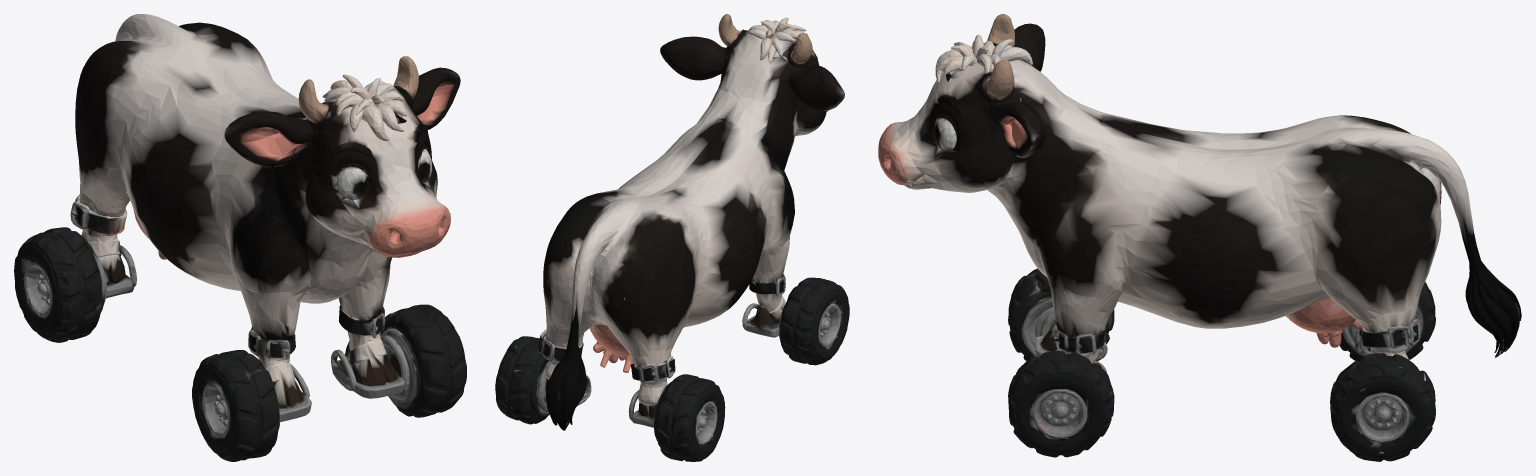
File: cow-garage.glb
3 views of the same model, side by side, from view 1: azimuth 30°, elevation 25°; view 2: azimuth 150°, elevation 25°; view 3: azimuth 270°, elevation 25° (orthographic). The views are drawn at different scales.
Visible parts, largest first — view 1: Mesh_0; view 2: Mesh_0; view 3: Mesh_0.
Boxes of the visible parts, box(x1,y1,x2,y2) form: Mesh_0: box(14, 14, 466, 461); Mesh_0: box(495, 14, 849, 461); Mesh_0: box(878, 14, 1521, 461).
Bounding box in the file's own units: 0.825 × 1.21 × 1.9.
